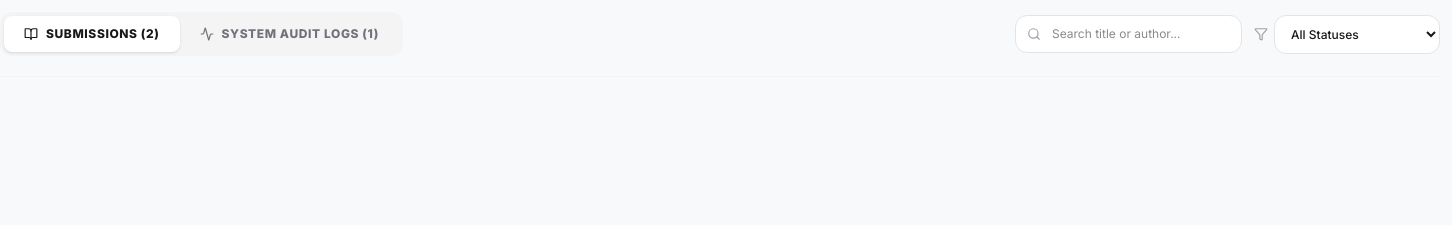
Scenario: SubmissionsModeration › filters submissions by status
Select "Approved" in the dropdown showing "All Statuses" at (1357, 34), box [1274,14,1440,54]
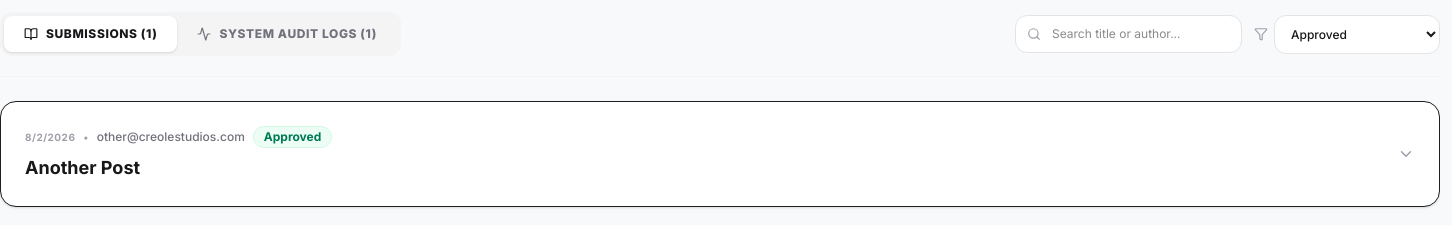
Expected: the heading "Another Post" is shown, [25,157,140,178]
